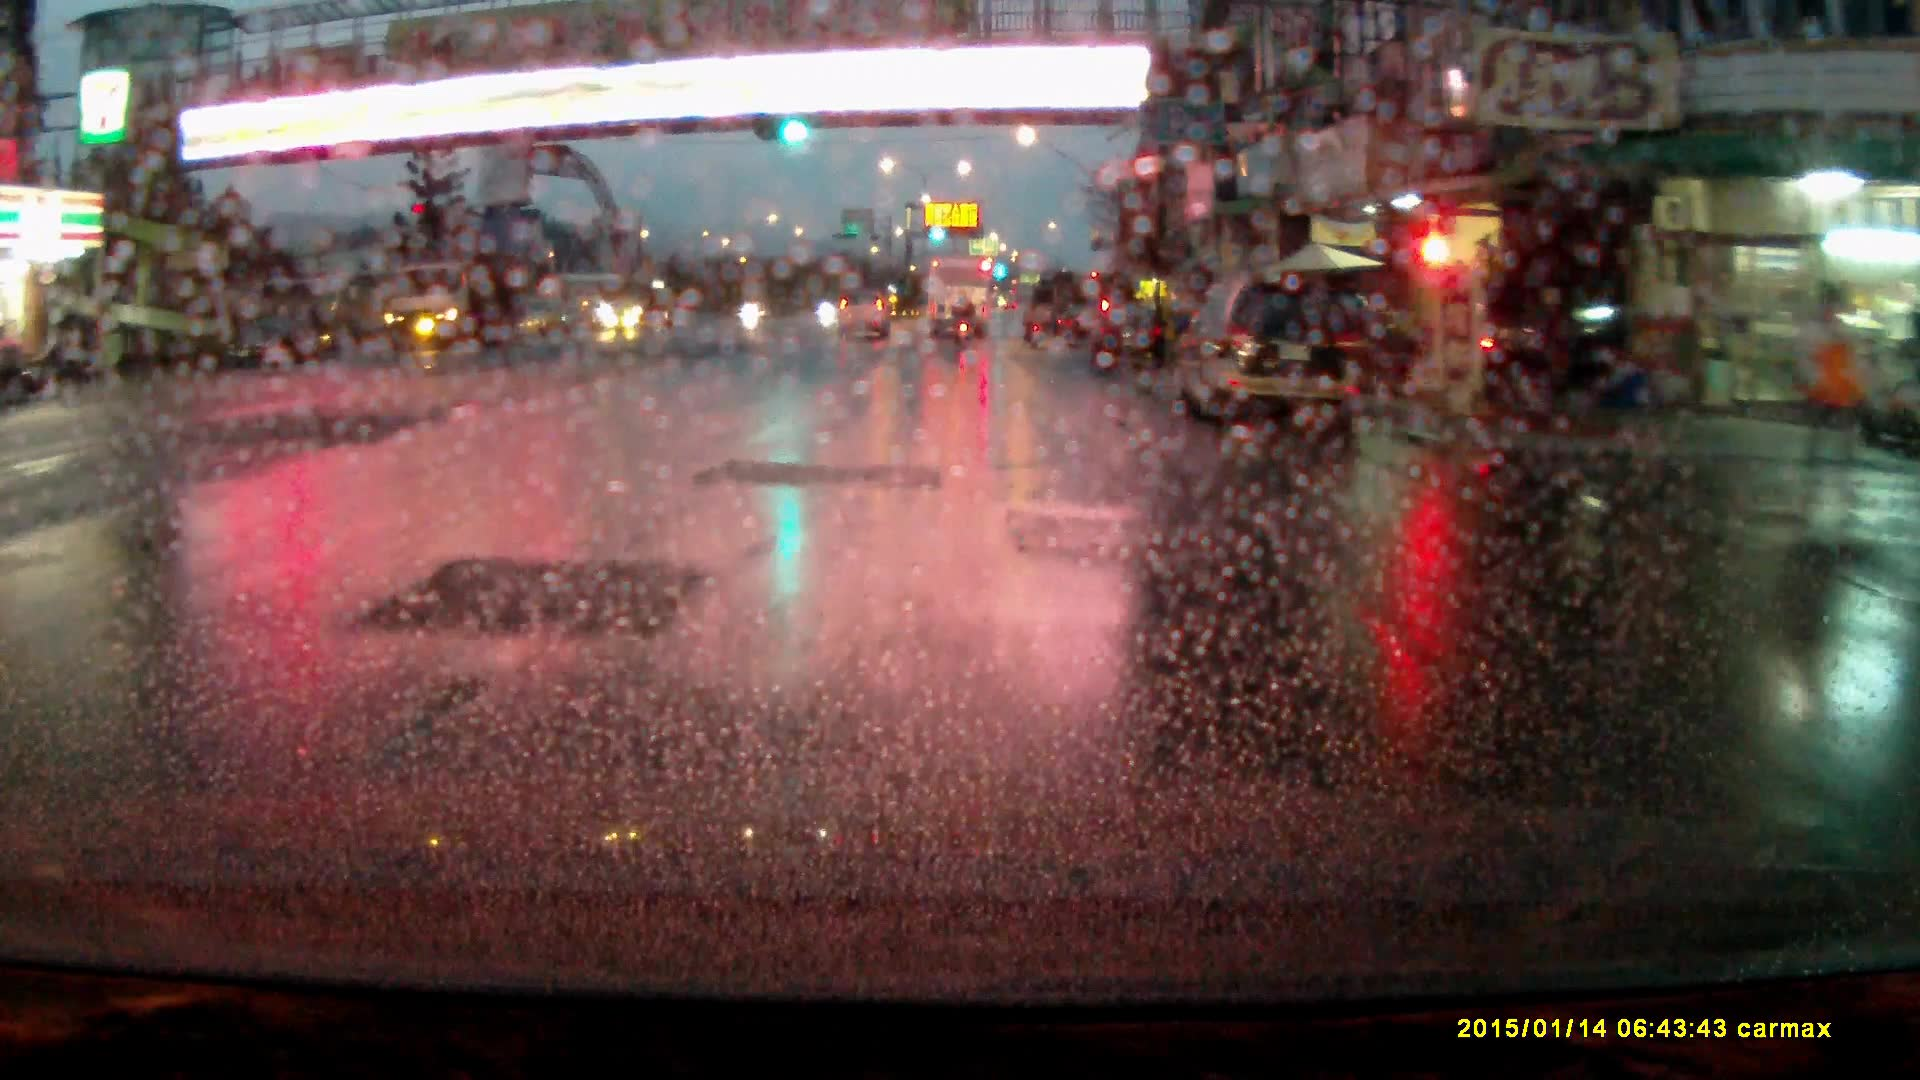pedestrian: (1785, 279, 1879, 529)
rider: (951, 292, 976, 352)
vehicle: (1173, 279, 1369, 427), (1492, 288, 1625, 402), (377, 258, 517, 350), (927, 257, 993, 336), (1091, 308, 1168, 369), (604, 281, 678, 338), (838, 294, 895, 343), (1059, 303, 1104, 346)
